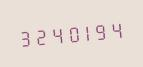four: (107, 16, 121, 42), (47, 22, 61, 47)
nine: (92, 18, 106, 43)
one: (77, 19, 91, 45)
three: (17, 24, 31, 50)
two: (32, 23, 46, 49)
zero: (62, 20, 76, 46)
